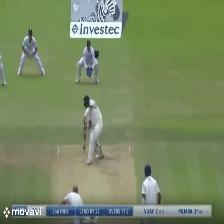ball: (80, 141, 87, 150)
batsman: (77, 93, 107, 166)
